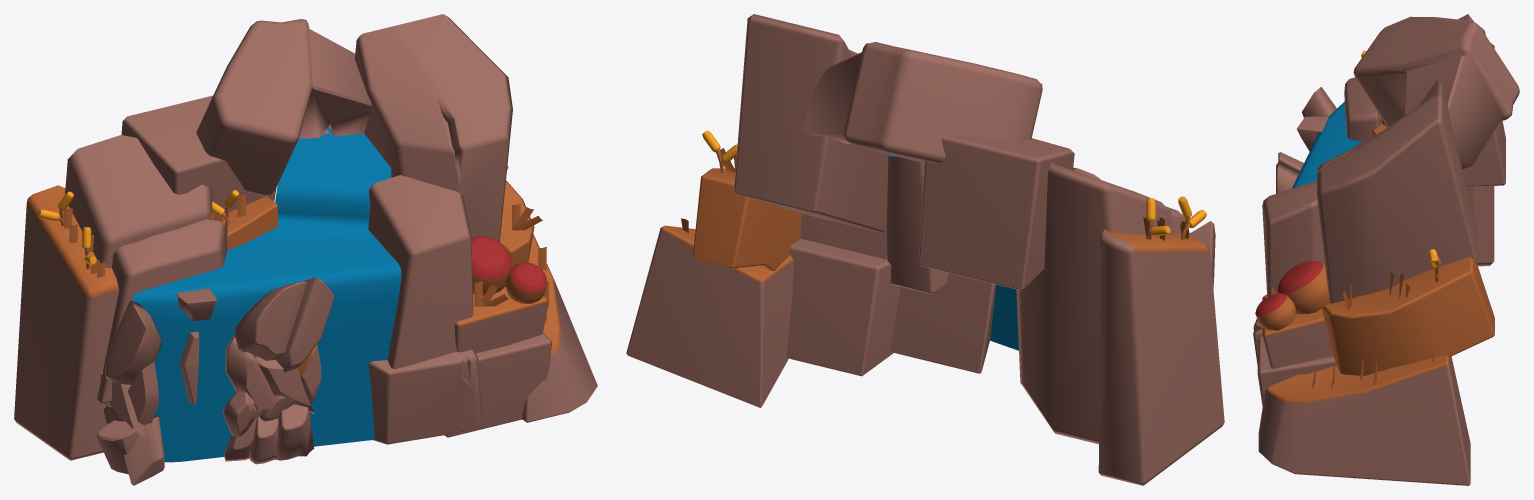
The model's file is SM_Cascata 1.fbx.
3 views of the same model, side by side, from view 1: azimuth 30°, elevation 25°; view 2: azimuth 150°, elevation 25°; view 3: azimuth 270°, elevation 25° (orthographic). The views are drawn at different scales.
Visible parts, largest first — view 1: polySurface71, polySurface70; view 2: polySurface71, polySurface70; view 3: polySurface71, polySurface70.
Boxes of the visible parts, bbox=[...] form: polySurface71: bbox=[14, 14, 597, 485]; polySurface70: bbox=[132, 127, 401, 462]; polySurface71: bbox=[626, 14, 1224, 485]; polySurface70: bbox=[885, 153, 1018, 350]; polySurface71: bbox=[1253, 14, 1519, 485]; polySurface70: bbox=[1292, 102, 1362, 188].
Bounding box in the file's own units: 2010 × 1398 × 947.
